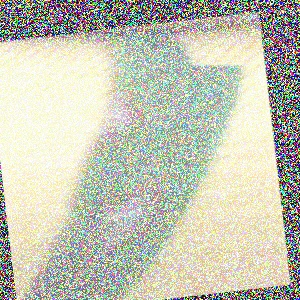Brown_Spot: (79, 171, 182, 263), (84, 76, 155, 158)
